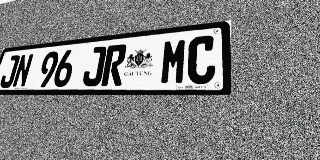6: (52, 49, 77, 87)
9: (36, 51, 60, 87)
C: (186, 35, 216, 84)
J: (81, 46, 107, 86), (0, 55, 21, 88)
M: (159, 38, 188, 85)
N: (11, 53, 34, 88)
R: (101, 44, 127, 86)
